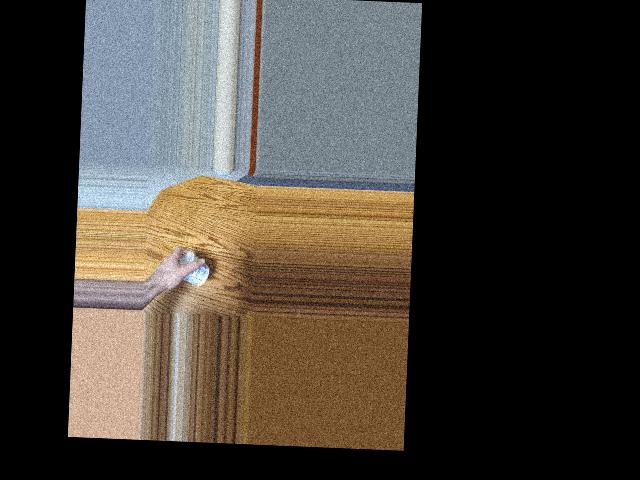cotage: (179, 249, 211, 289)
